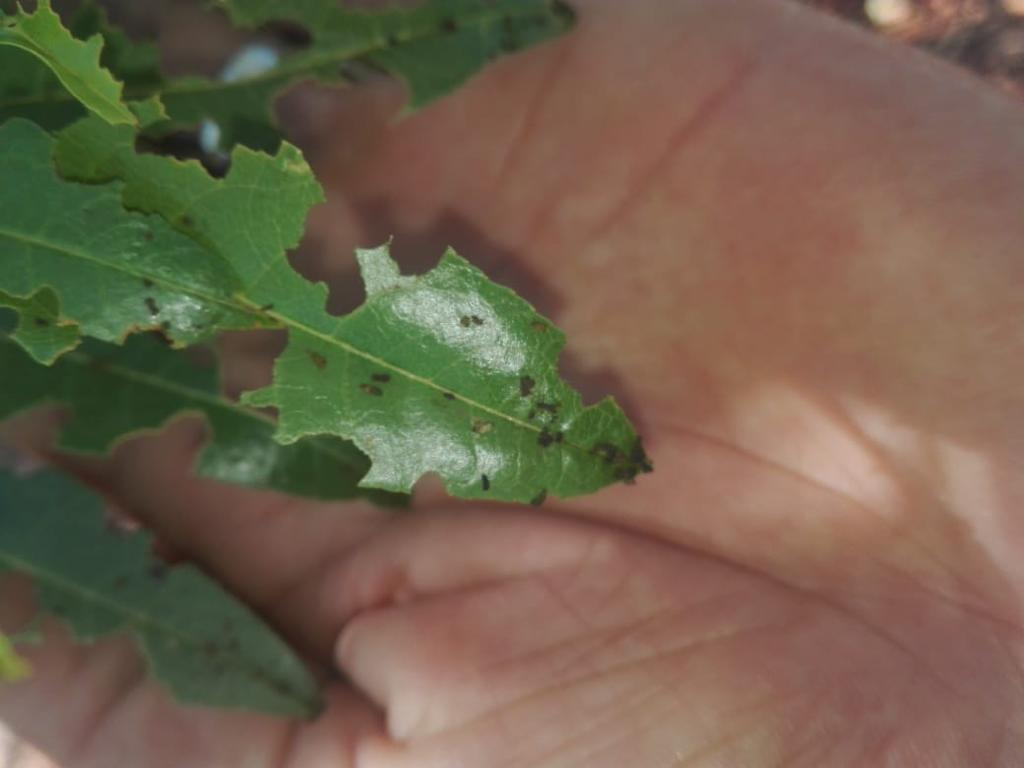othyorinques: (1, 91, 654, 506)
